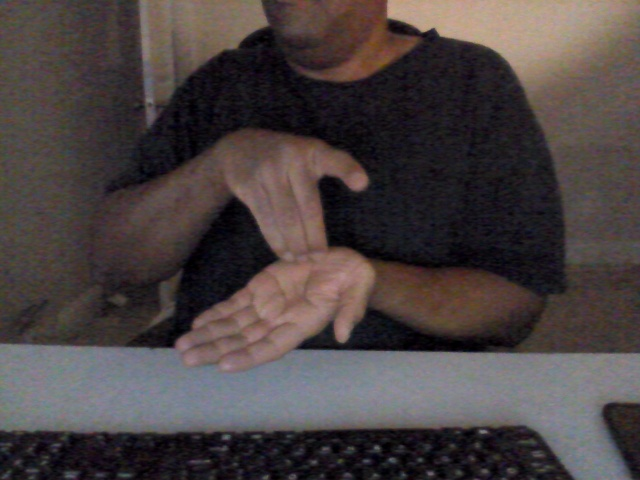doctor: (172, 128, 382, 391)
